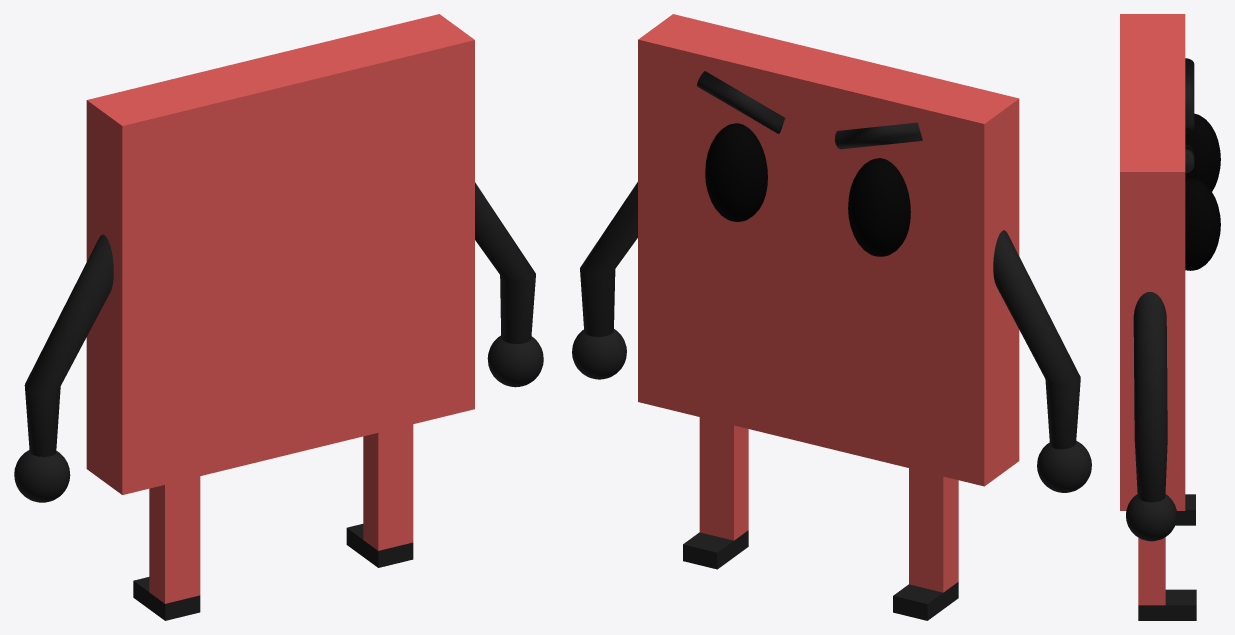
3 views of the same model, side by side, from view 1: azimuth 30°, elevation 25°; view 2: azimuth 150°, elevation 25°; view 3: azimuth 270°, elevation 25° (orthographic). The views are drawn at different scales.
Visible parts, largest first — view 1: Cube.009; view 2: Cube.009; view 3: Cube.009.
Boxes of the visible parts, x1,y1,x2,y2 form: Cube.009: (14,14,543,620); Cube.009: (572,14,1091,620); Cube.009: (1120,14,1220,620).
Bounding box in the file's own units: 158 × 149 × 28.87.
